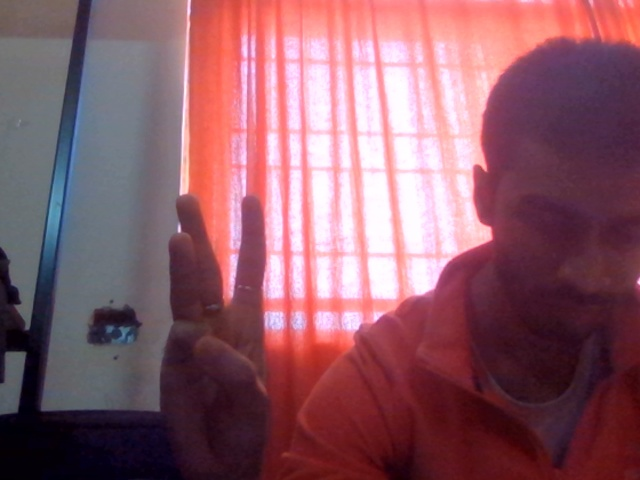W: (83, 154, 396, 480)
